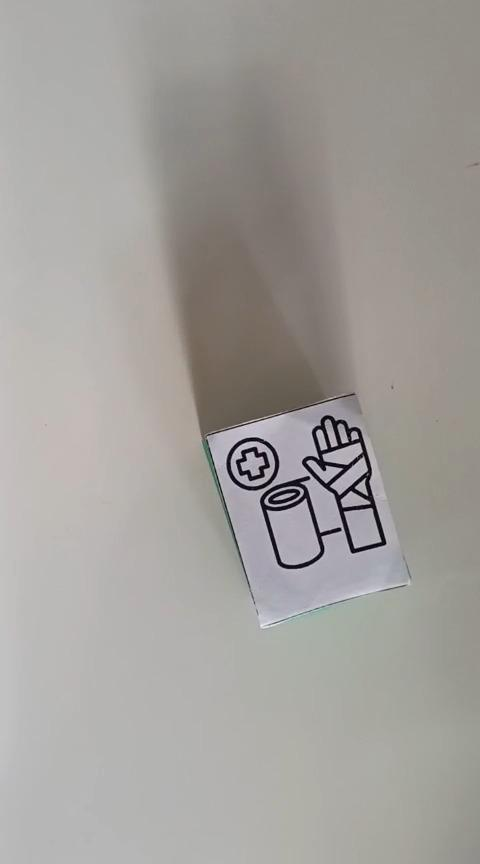Bandages: (202, 391, 411, 628)
